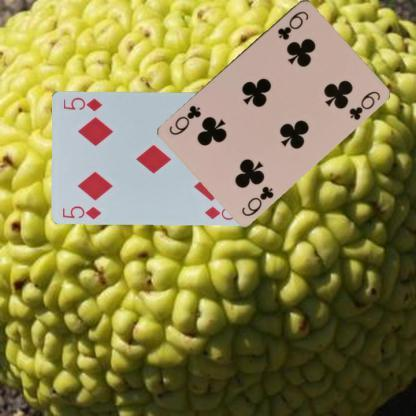5d: (60, 204, 103, 220)
6c: (275, 7, 310, 42), (239, 183, 275, 217)
